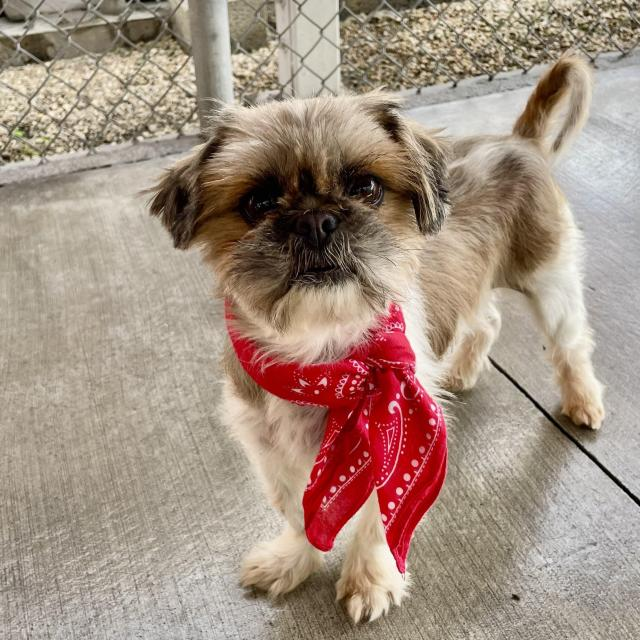shih_tzu_dog: (149, 83, 466, 353)
